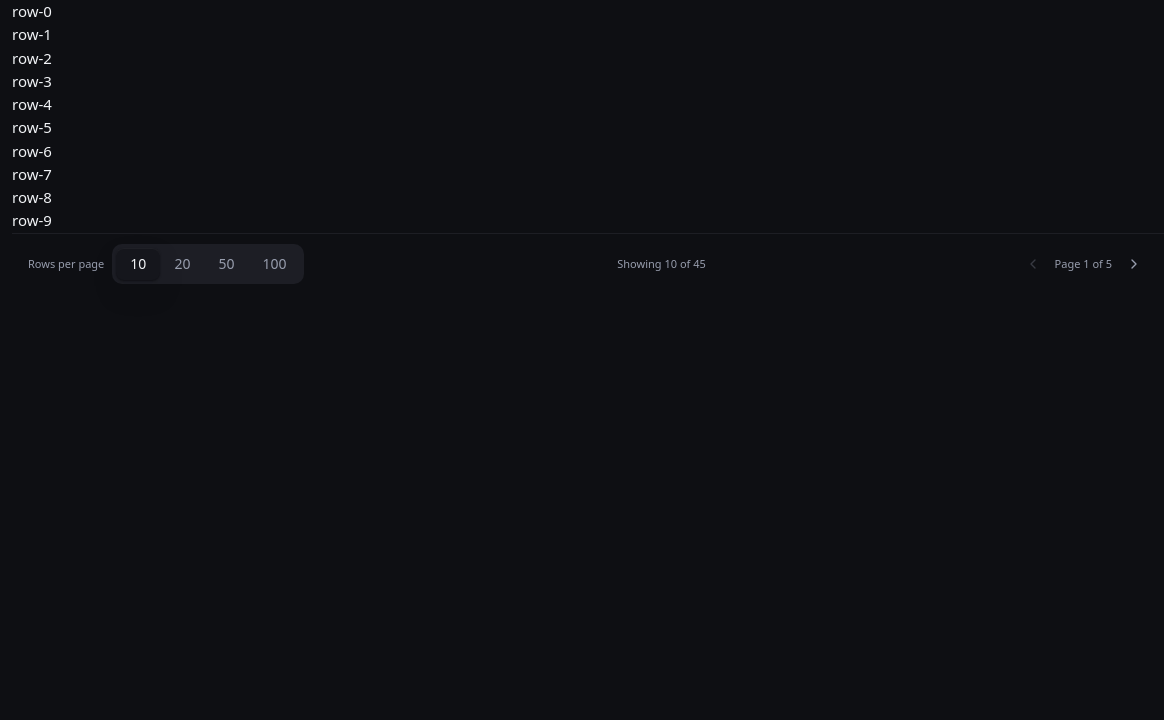
Test: the size switch keeps the reader where they were › lands on a page that exists when the size grows past the whole list
Click the button named "Next page": (1134, 264) [1120,250,1148,278]
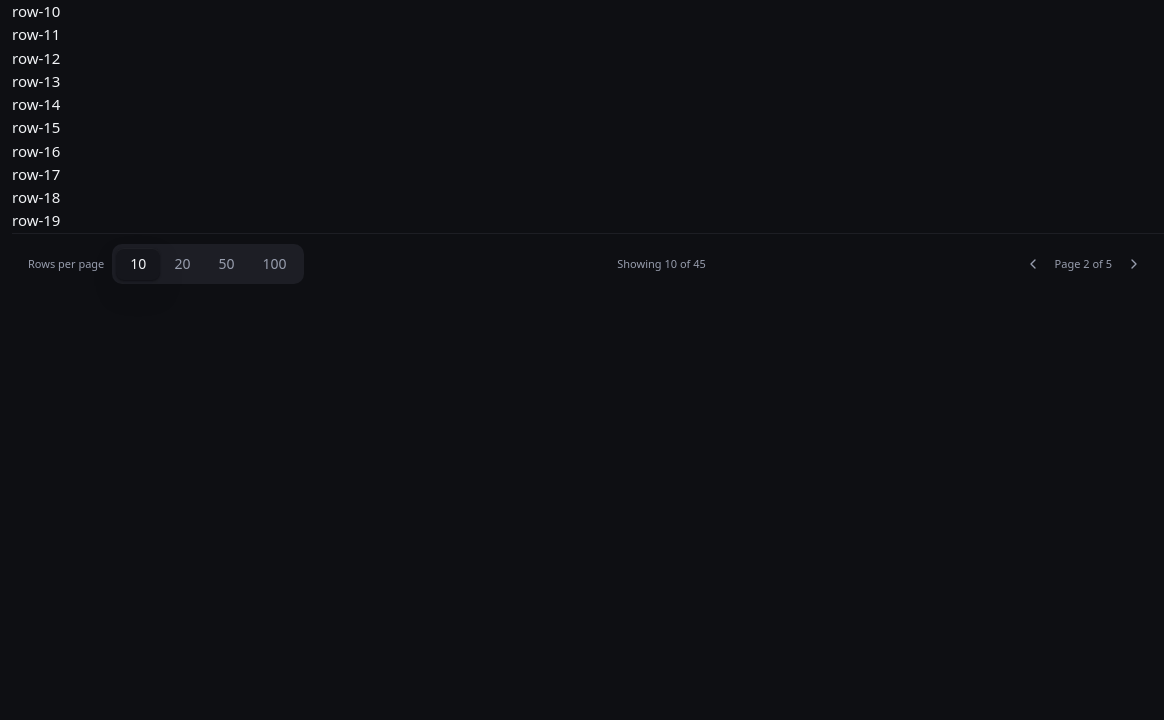
Click the button named "Next page": (1134, 264) [1120,250,1148,278]
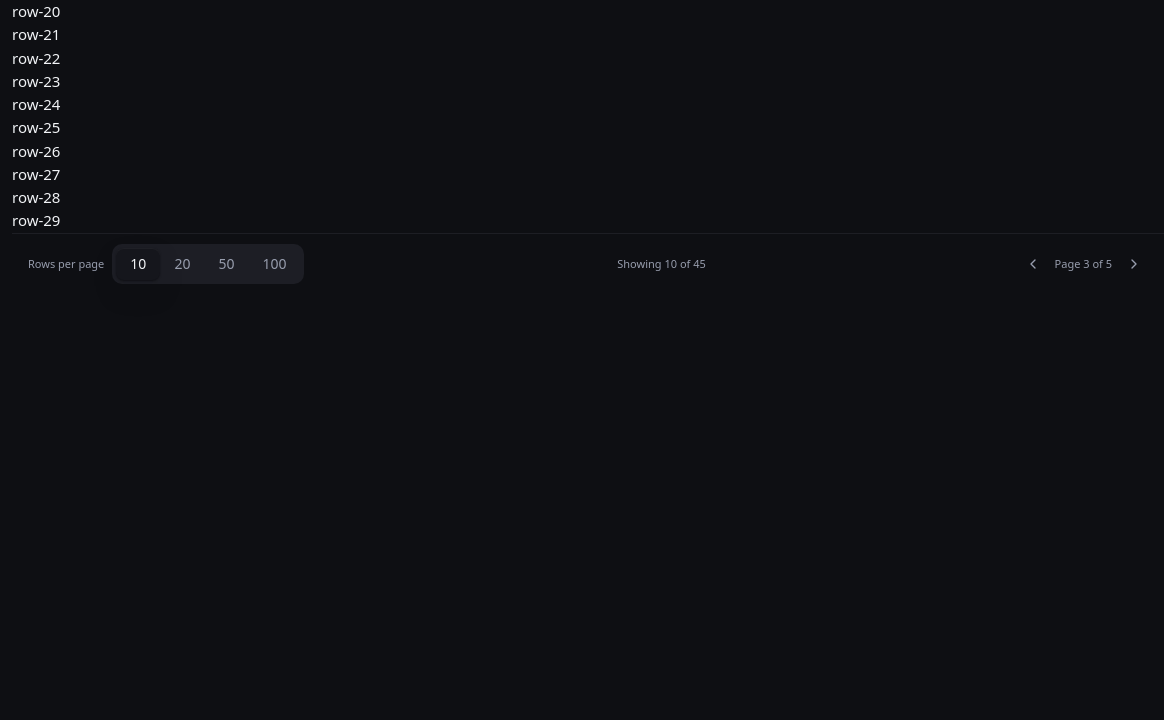
Click the button named "Next page": (1134, 264) [1120,250,1148,278]
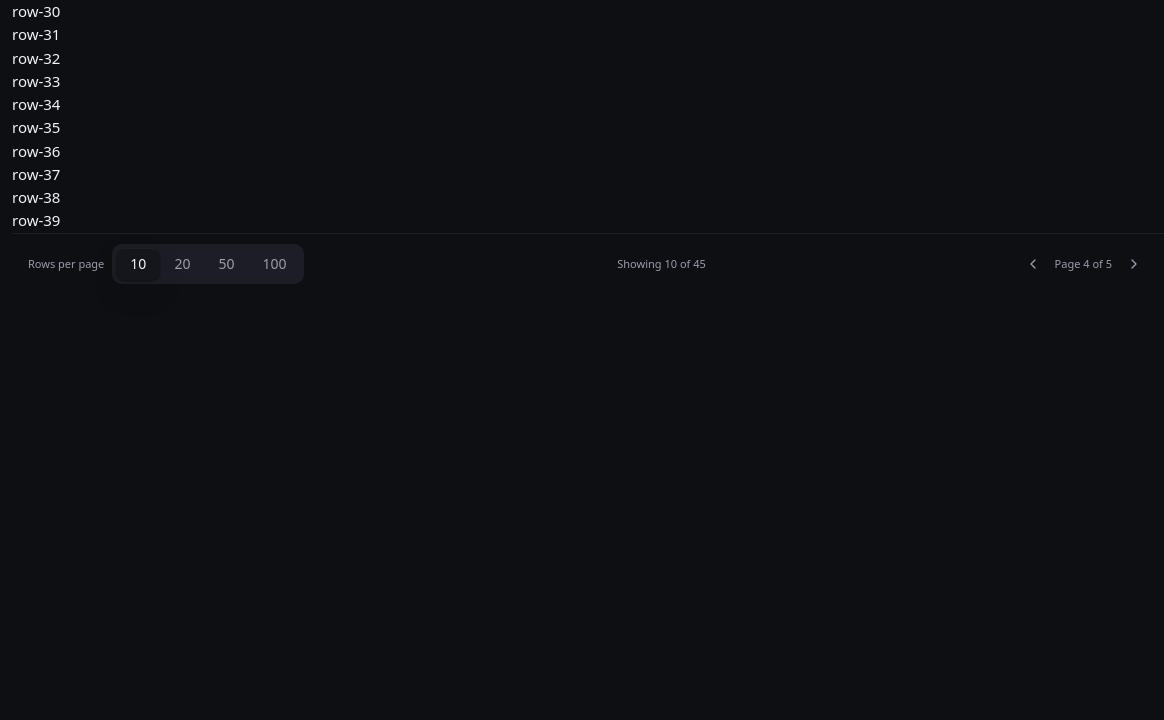
Click the button named "Next page": (1134, 264) [1120,250,1148,278]
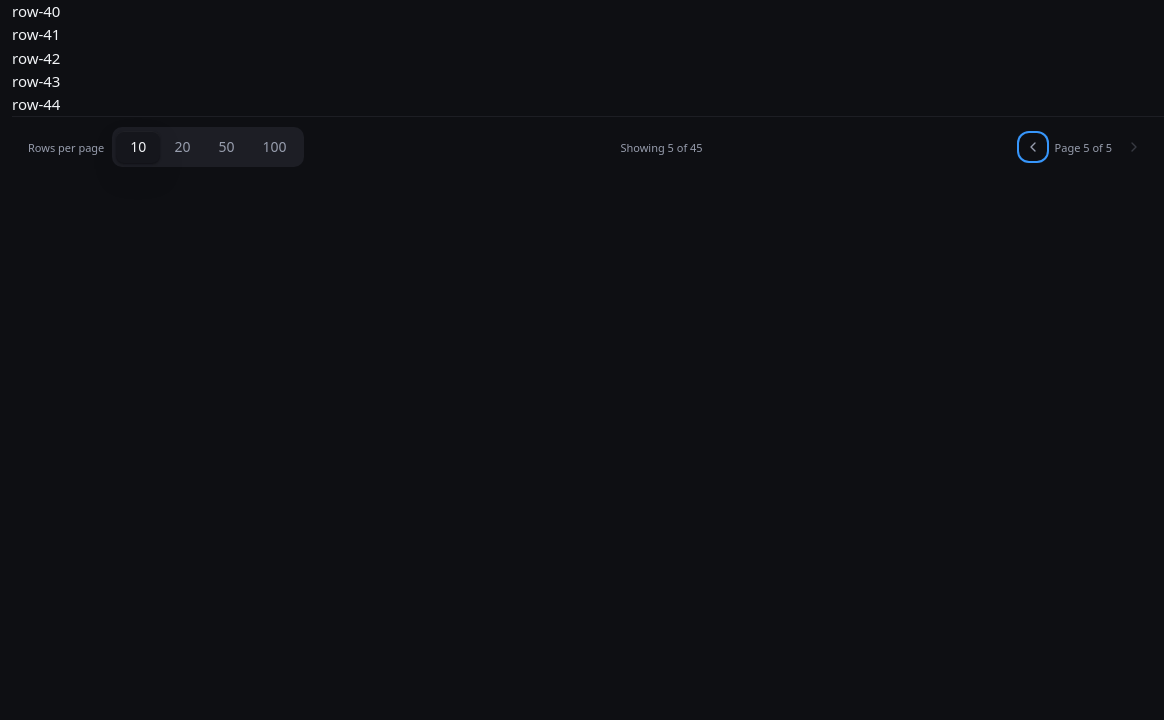
Check: the text with test id "pager-page" reads "Page 5 of 5", box [1055,140,1112,155]
Click the radio button labelled "100": (274, 147) [248,131,300,163]
(page scrolled)
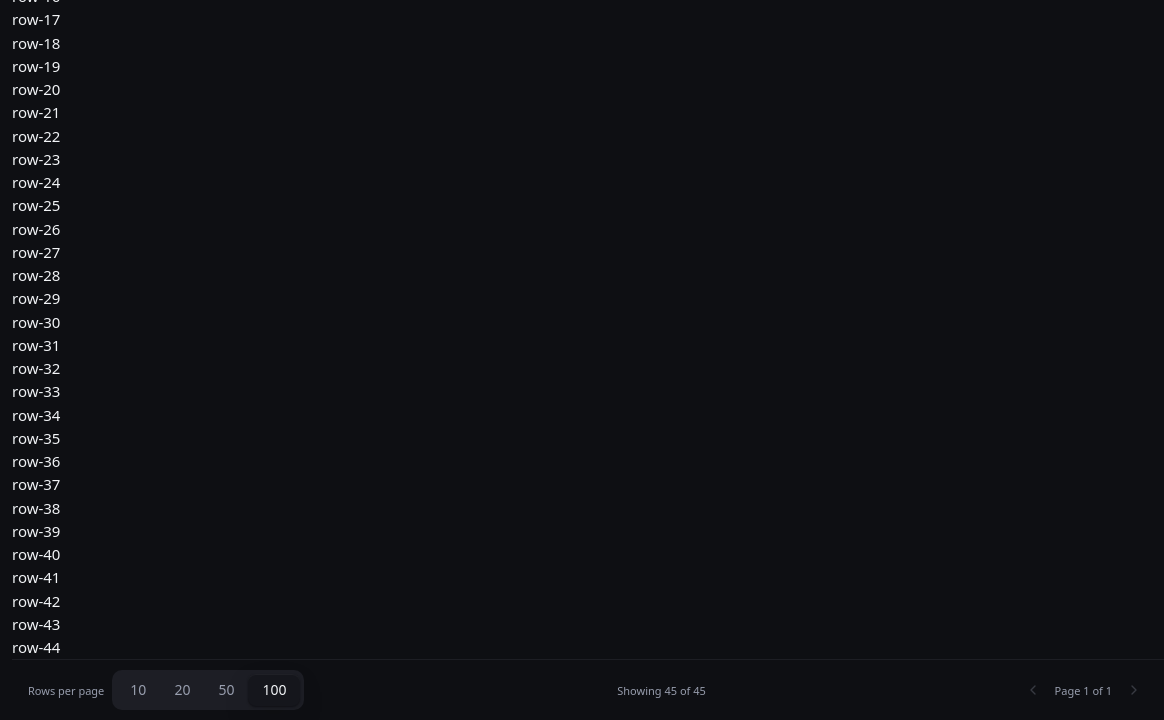
Check: the button named "Next page" is disabled, box [1120,676,1148,704]
Check: the text with test id "pager-page" reads "Page 1 of 1", box [1055,683,1112,698]
Check: the text with test id "pager-showing" reads "Showing 45 of 45", box [617,683,706,698]
